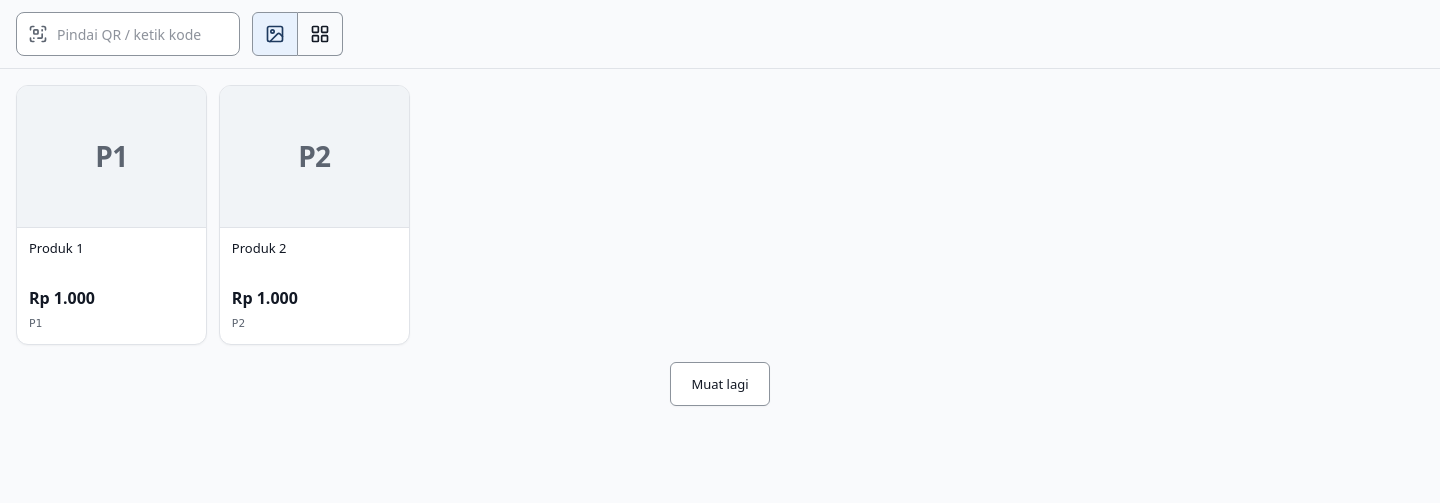
Scenario: ProductGrid — infinite scroll › galat halaman berikutnya: pesan + Coba lagi tanpa menghapus produk
Click the button "Muat lagi".
click(720, 384)  # box [670,362,770,406]
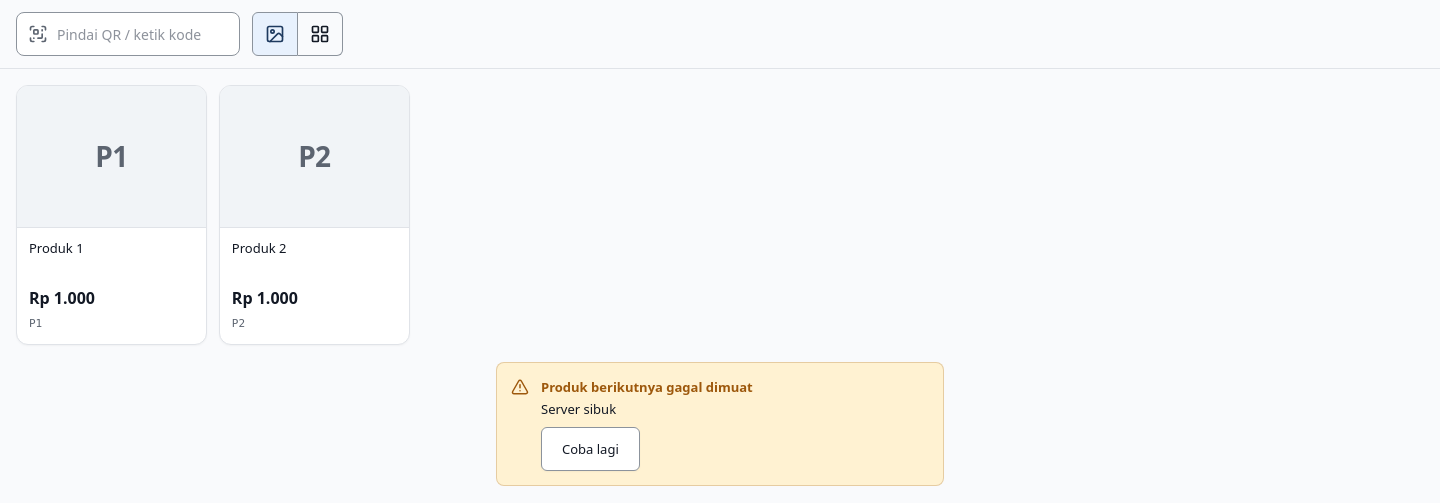
Expected: the number of buttons named "Tambah Produk" is 2, [16,85,207,345]; [219,85,410,345]
Result: the text "Server sibuk" is shown at [541,400,616,418]
Result: the text "Produk berikutnya gagal dimuat" is shown at [541,377,753,397]
Click the button "Coba lagi".
click(590, 449)  # box [541,427,640,471]
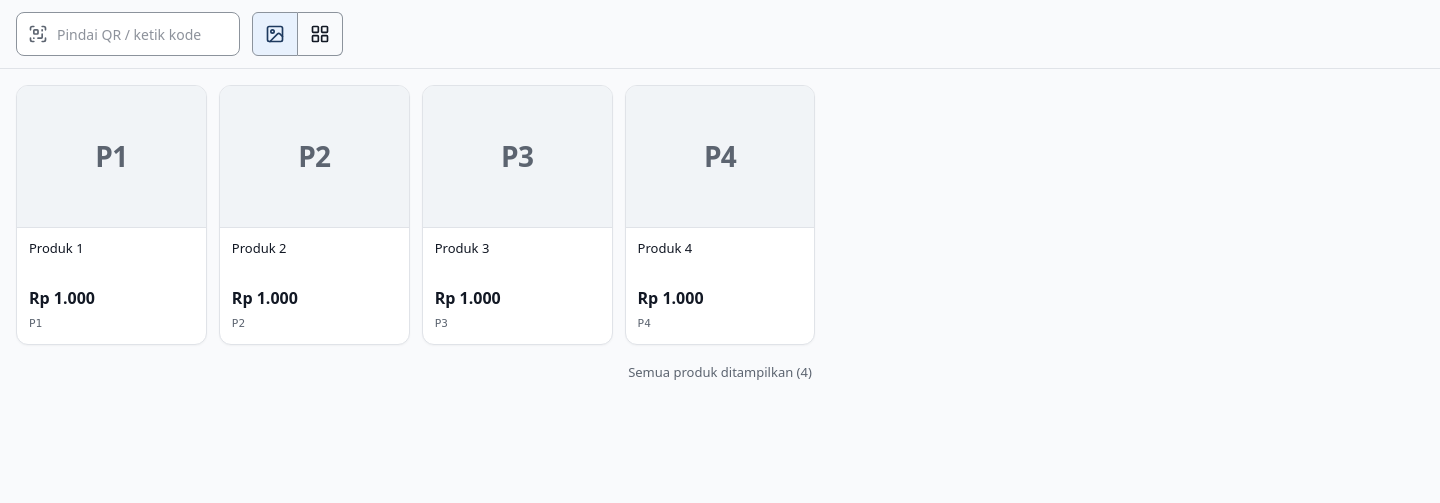
Result: the text "Semua produk ditampilkan (4)" is shown at [628,362,812,382]
